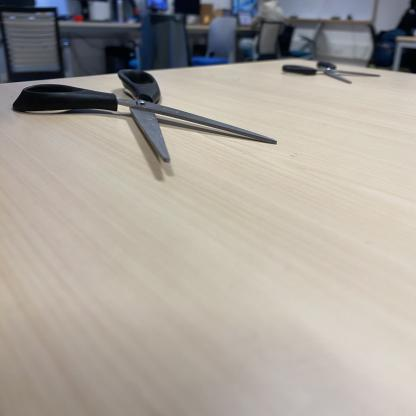scissors: (13, 64, 276, 166), (281, 52, 381, 86)
